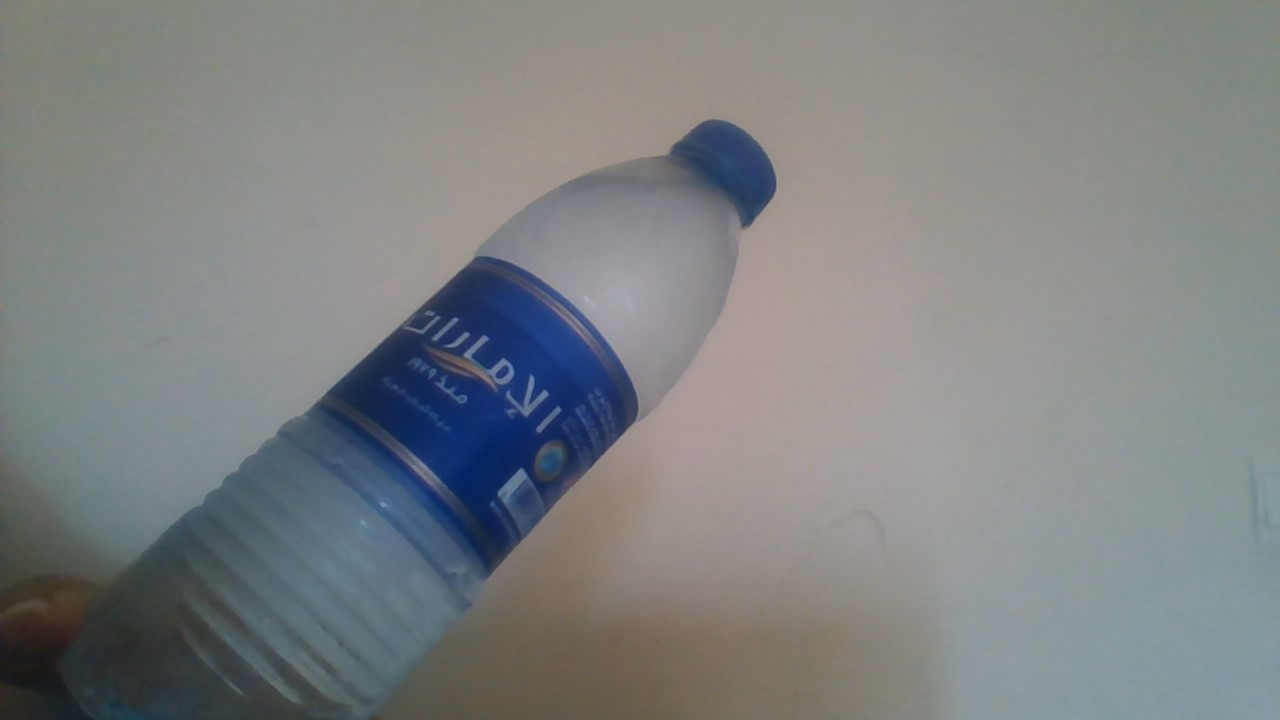plastic: (36, 115, 780, 720)
